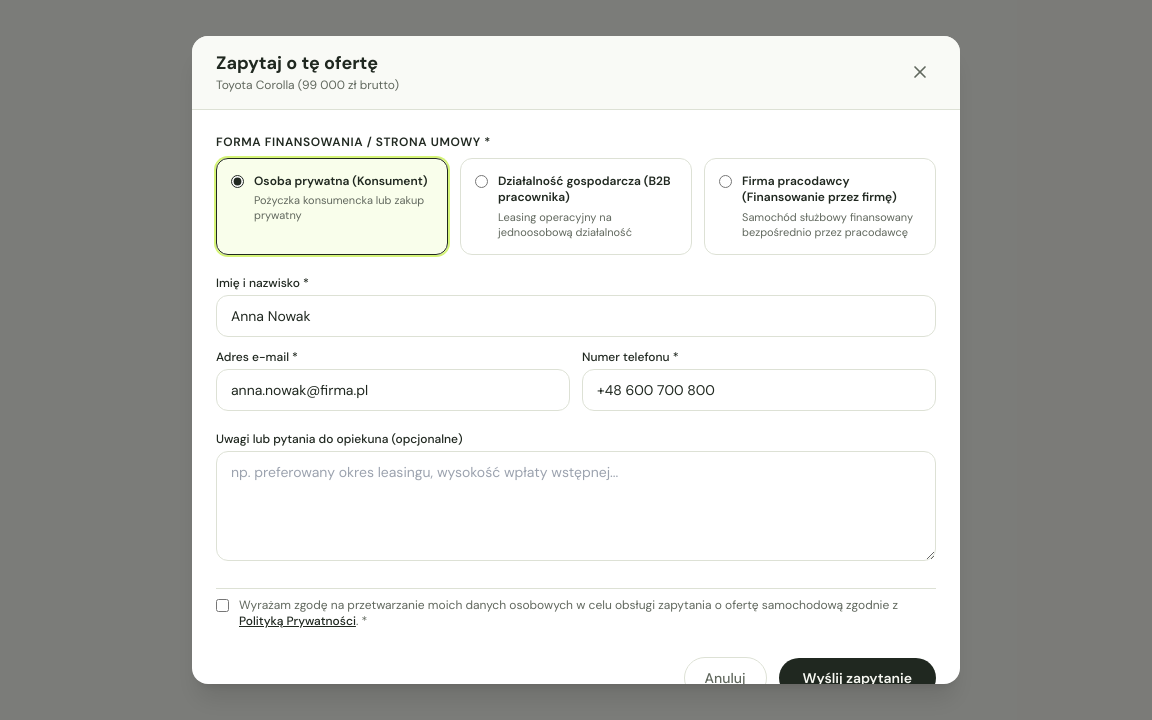
Test: InquiryModal Component › preserves idempotencyKey on retry after submission error
This screenshot has width=1152, height=720.
Expected: the field showing "Anna Nowak" is shown, x1=216 y1=295 x2=936 y2=337
Click the checkbox at (222, 605), box x1=216 y1=599 x2=229 y2=612
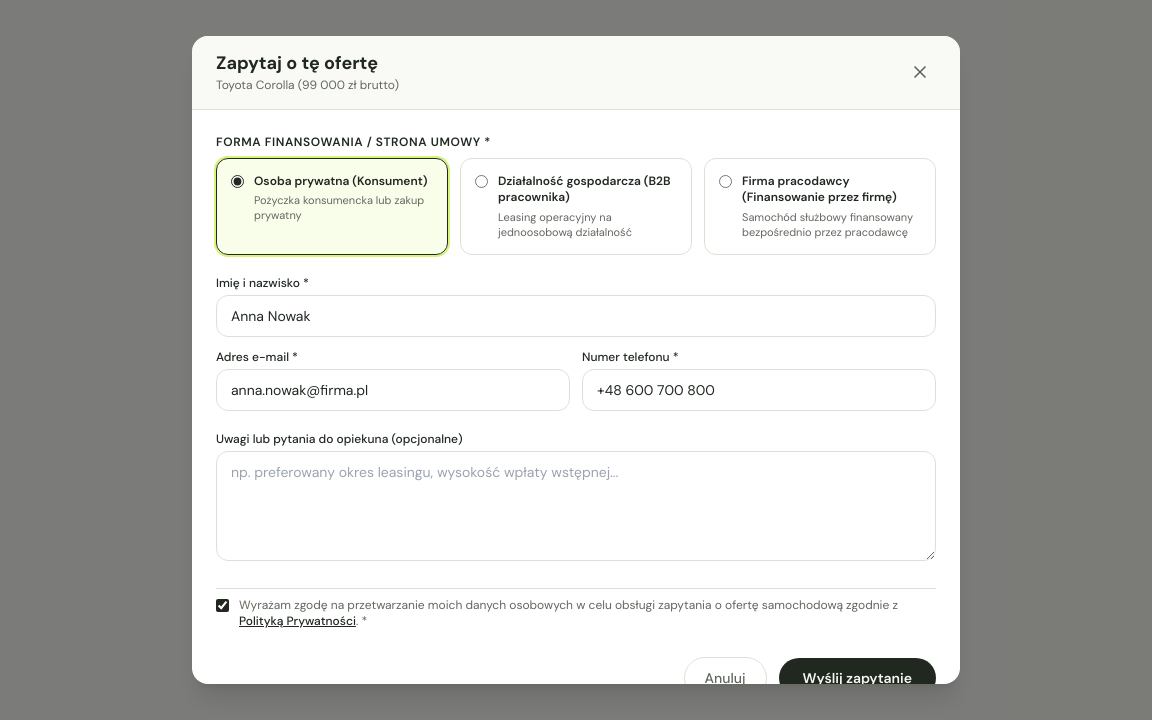
Click the button "Wyślij zapytanie" at (857, 678), box x1=778 y1=658 x2=936 y2=698
(page scrolled)
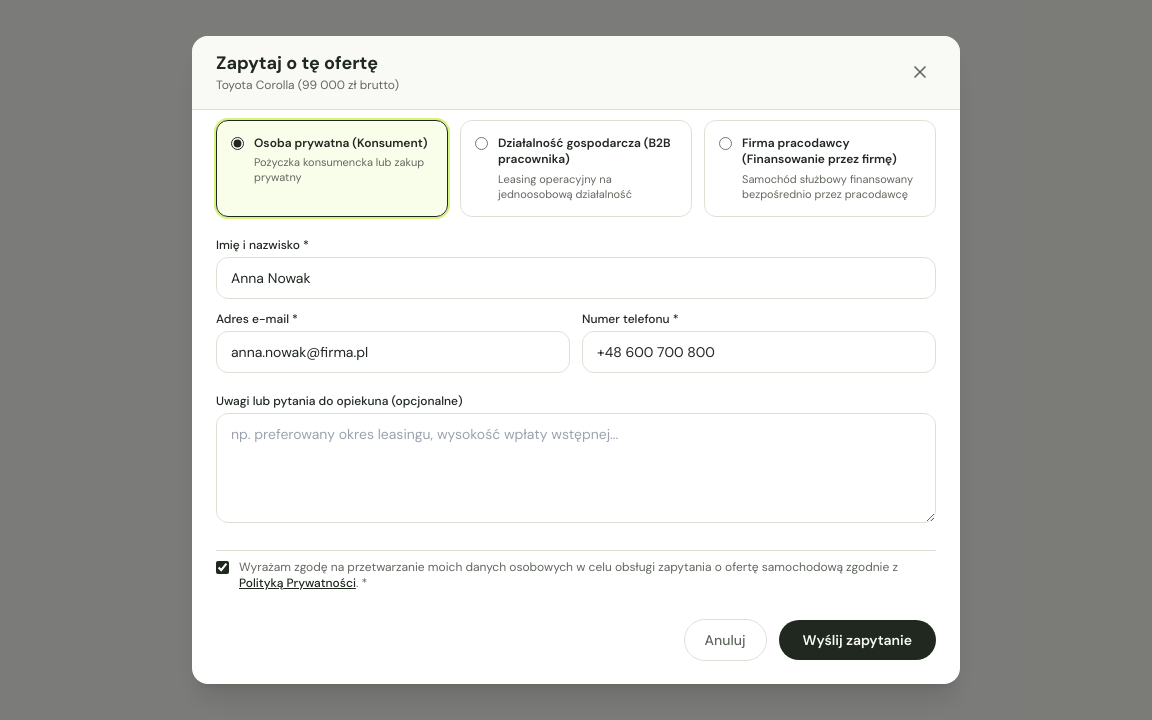
Note: Retry with same button
Click the button "Wyślij zapytanie" at (857, 640), box x1=778 y1=620 x2=936 y2=660
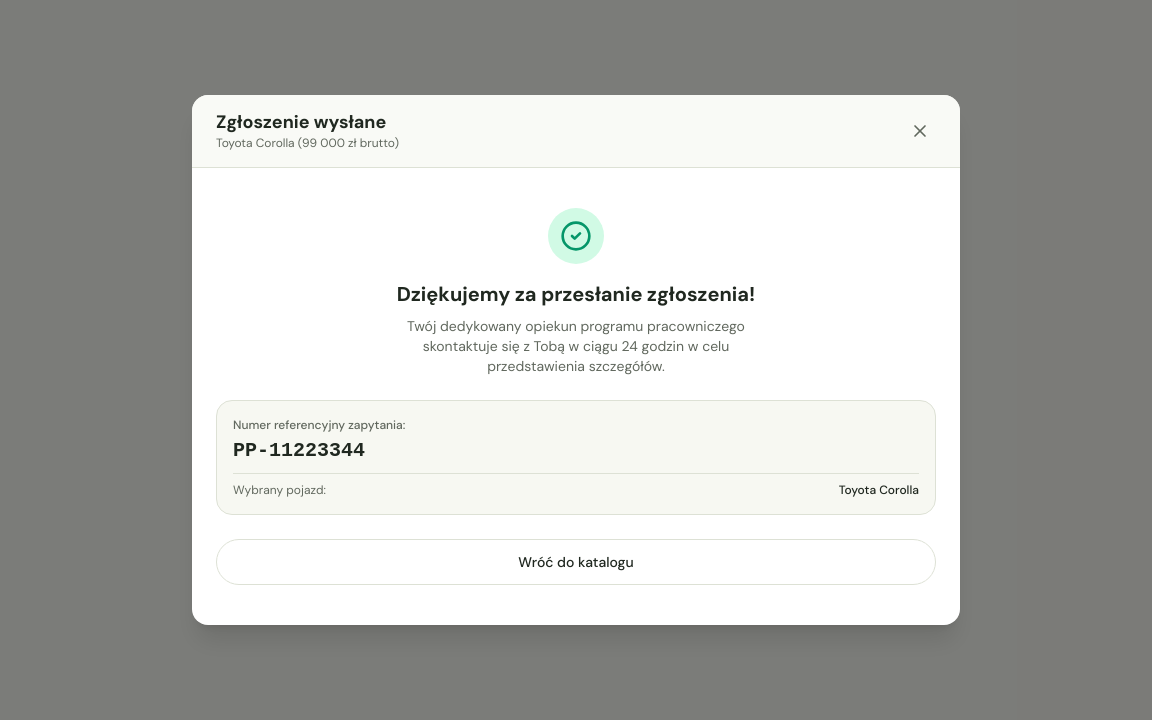
Expected: the text "PP-11223344" is shown, x1=233 y1=439 x2=365 y2=462
